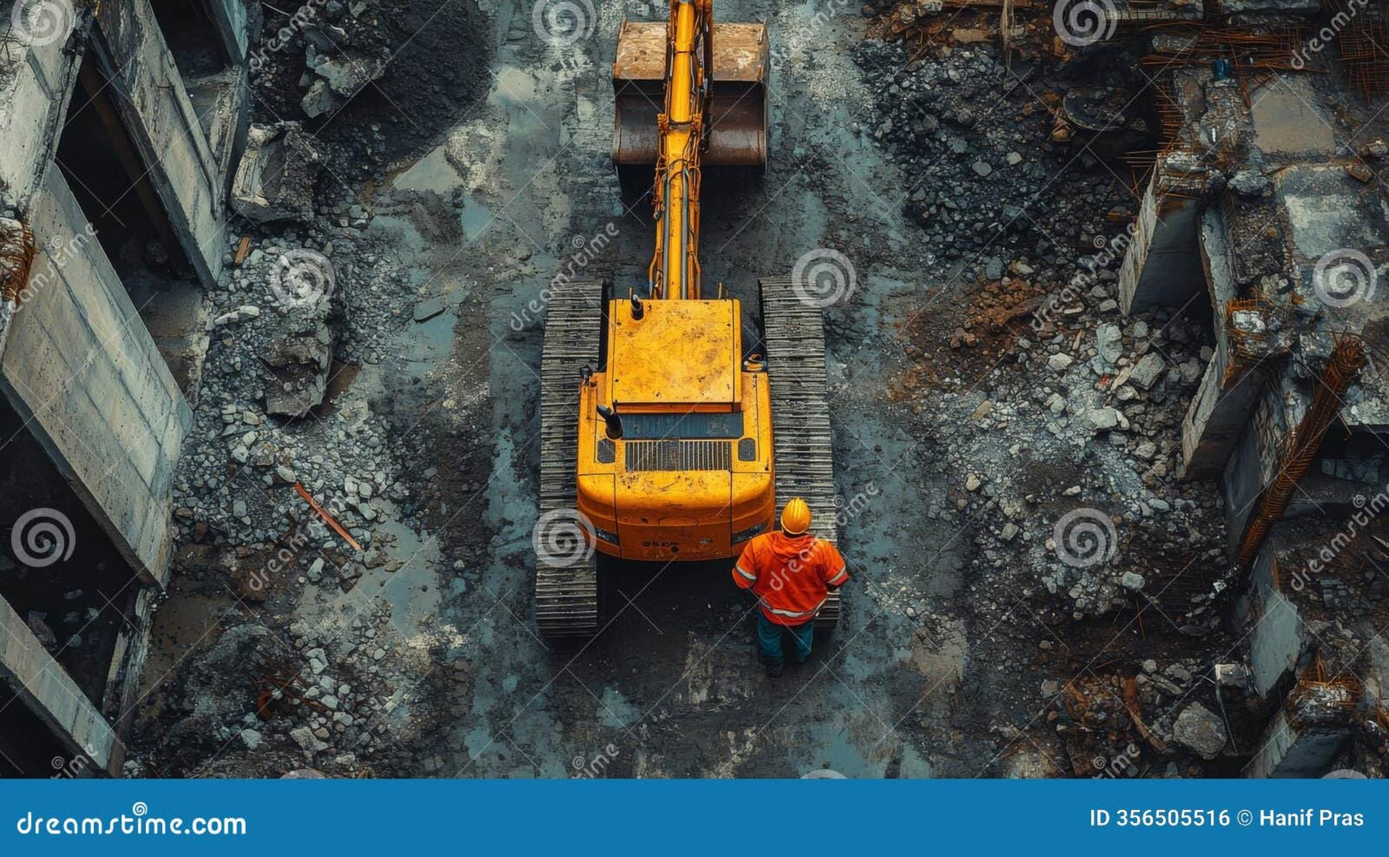excavator: (532, 7, 770, 549)
